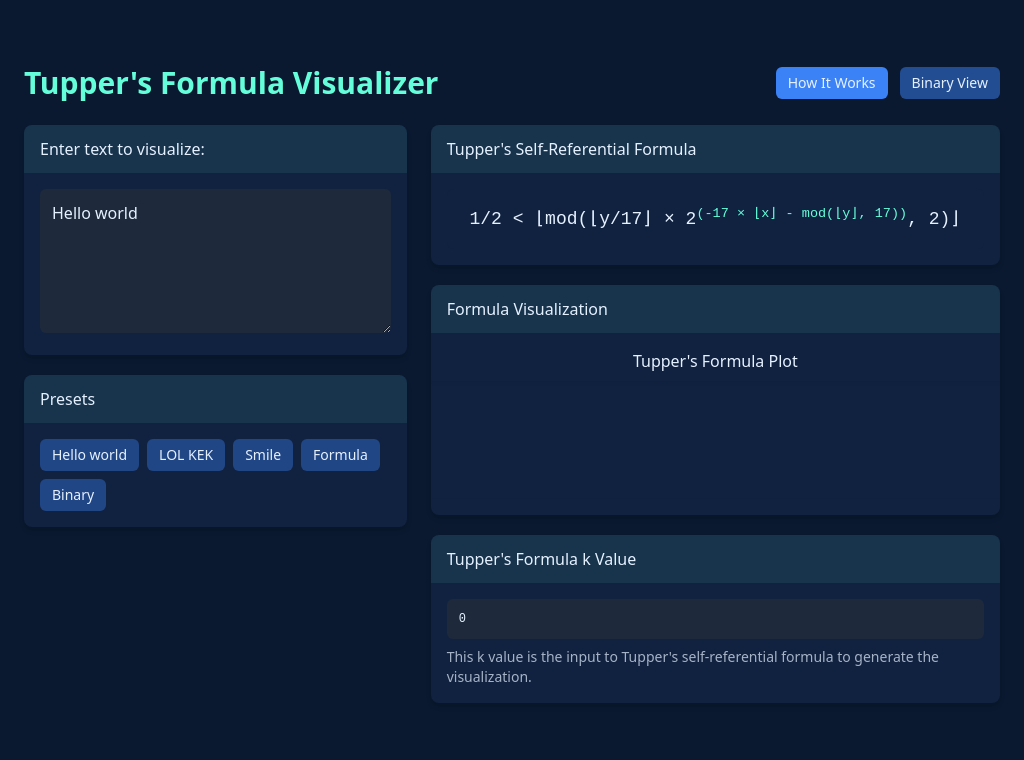
Test: App component › toggles binary view
expect the text "Binary Representation" is not shown: met
Click the button "Binary View": point(950, 83) [900, 67, 1000, 99]
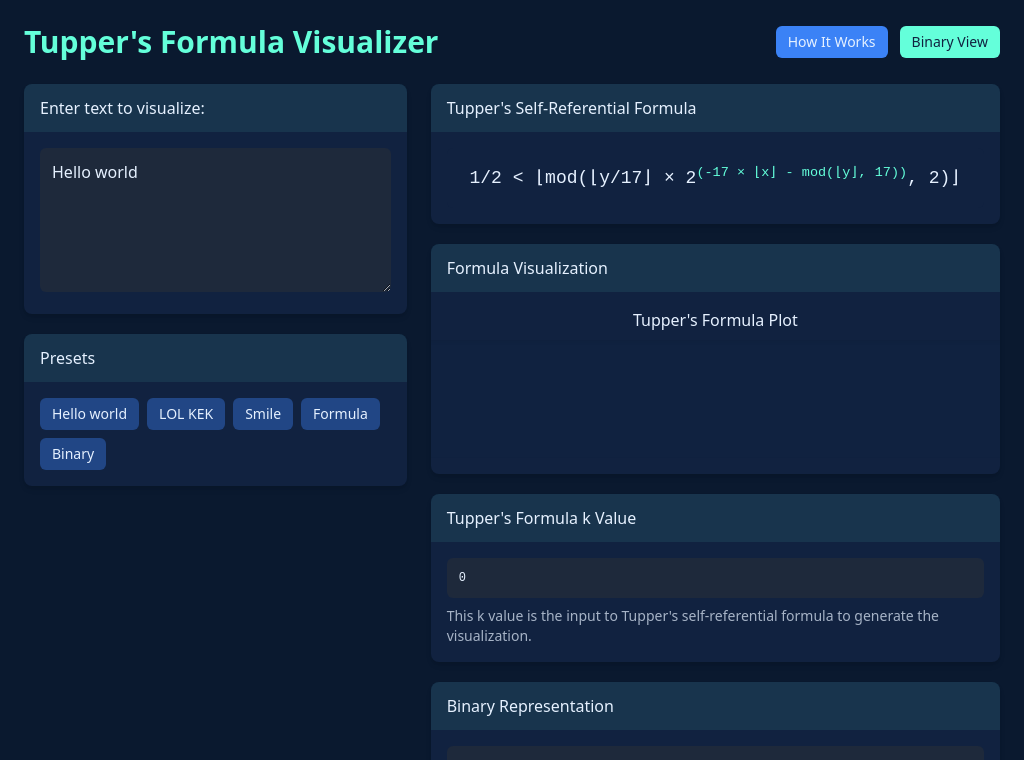
expect the text "Binary Representation" is shown: met, box [431, 682, 1000, 730]
Click the button "Binary View": point(950, 42) [900, 26, 1000, 58]
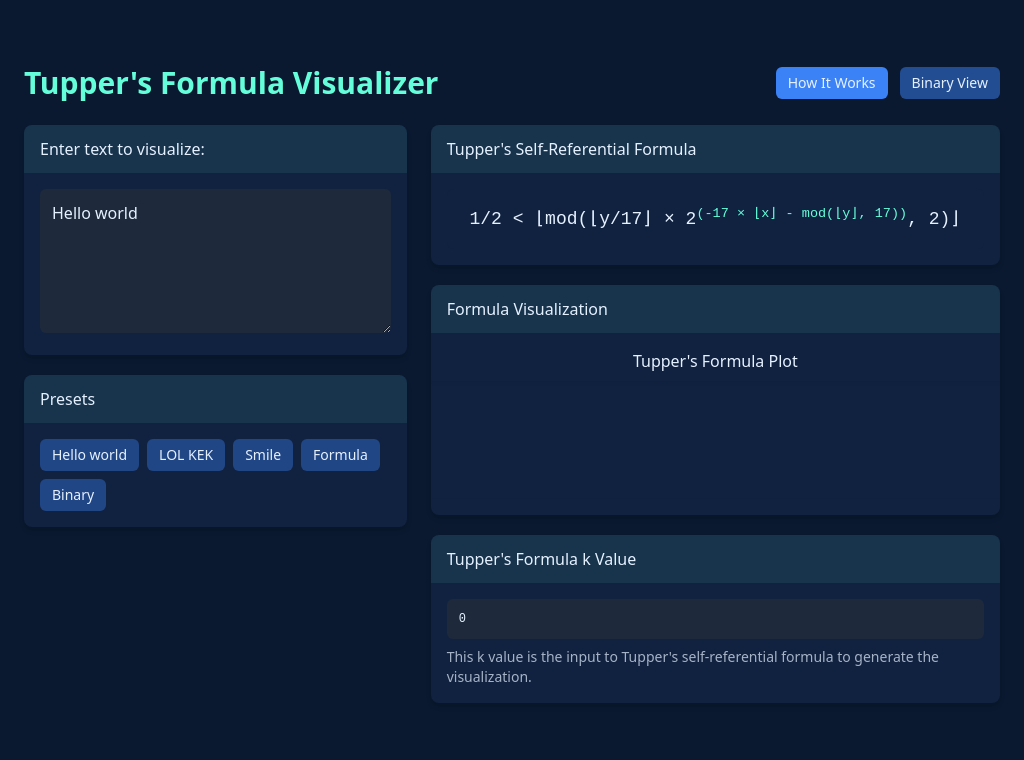
expect the text "Binary Representation" is gone: met
